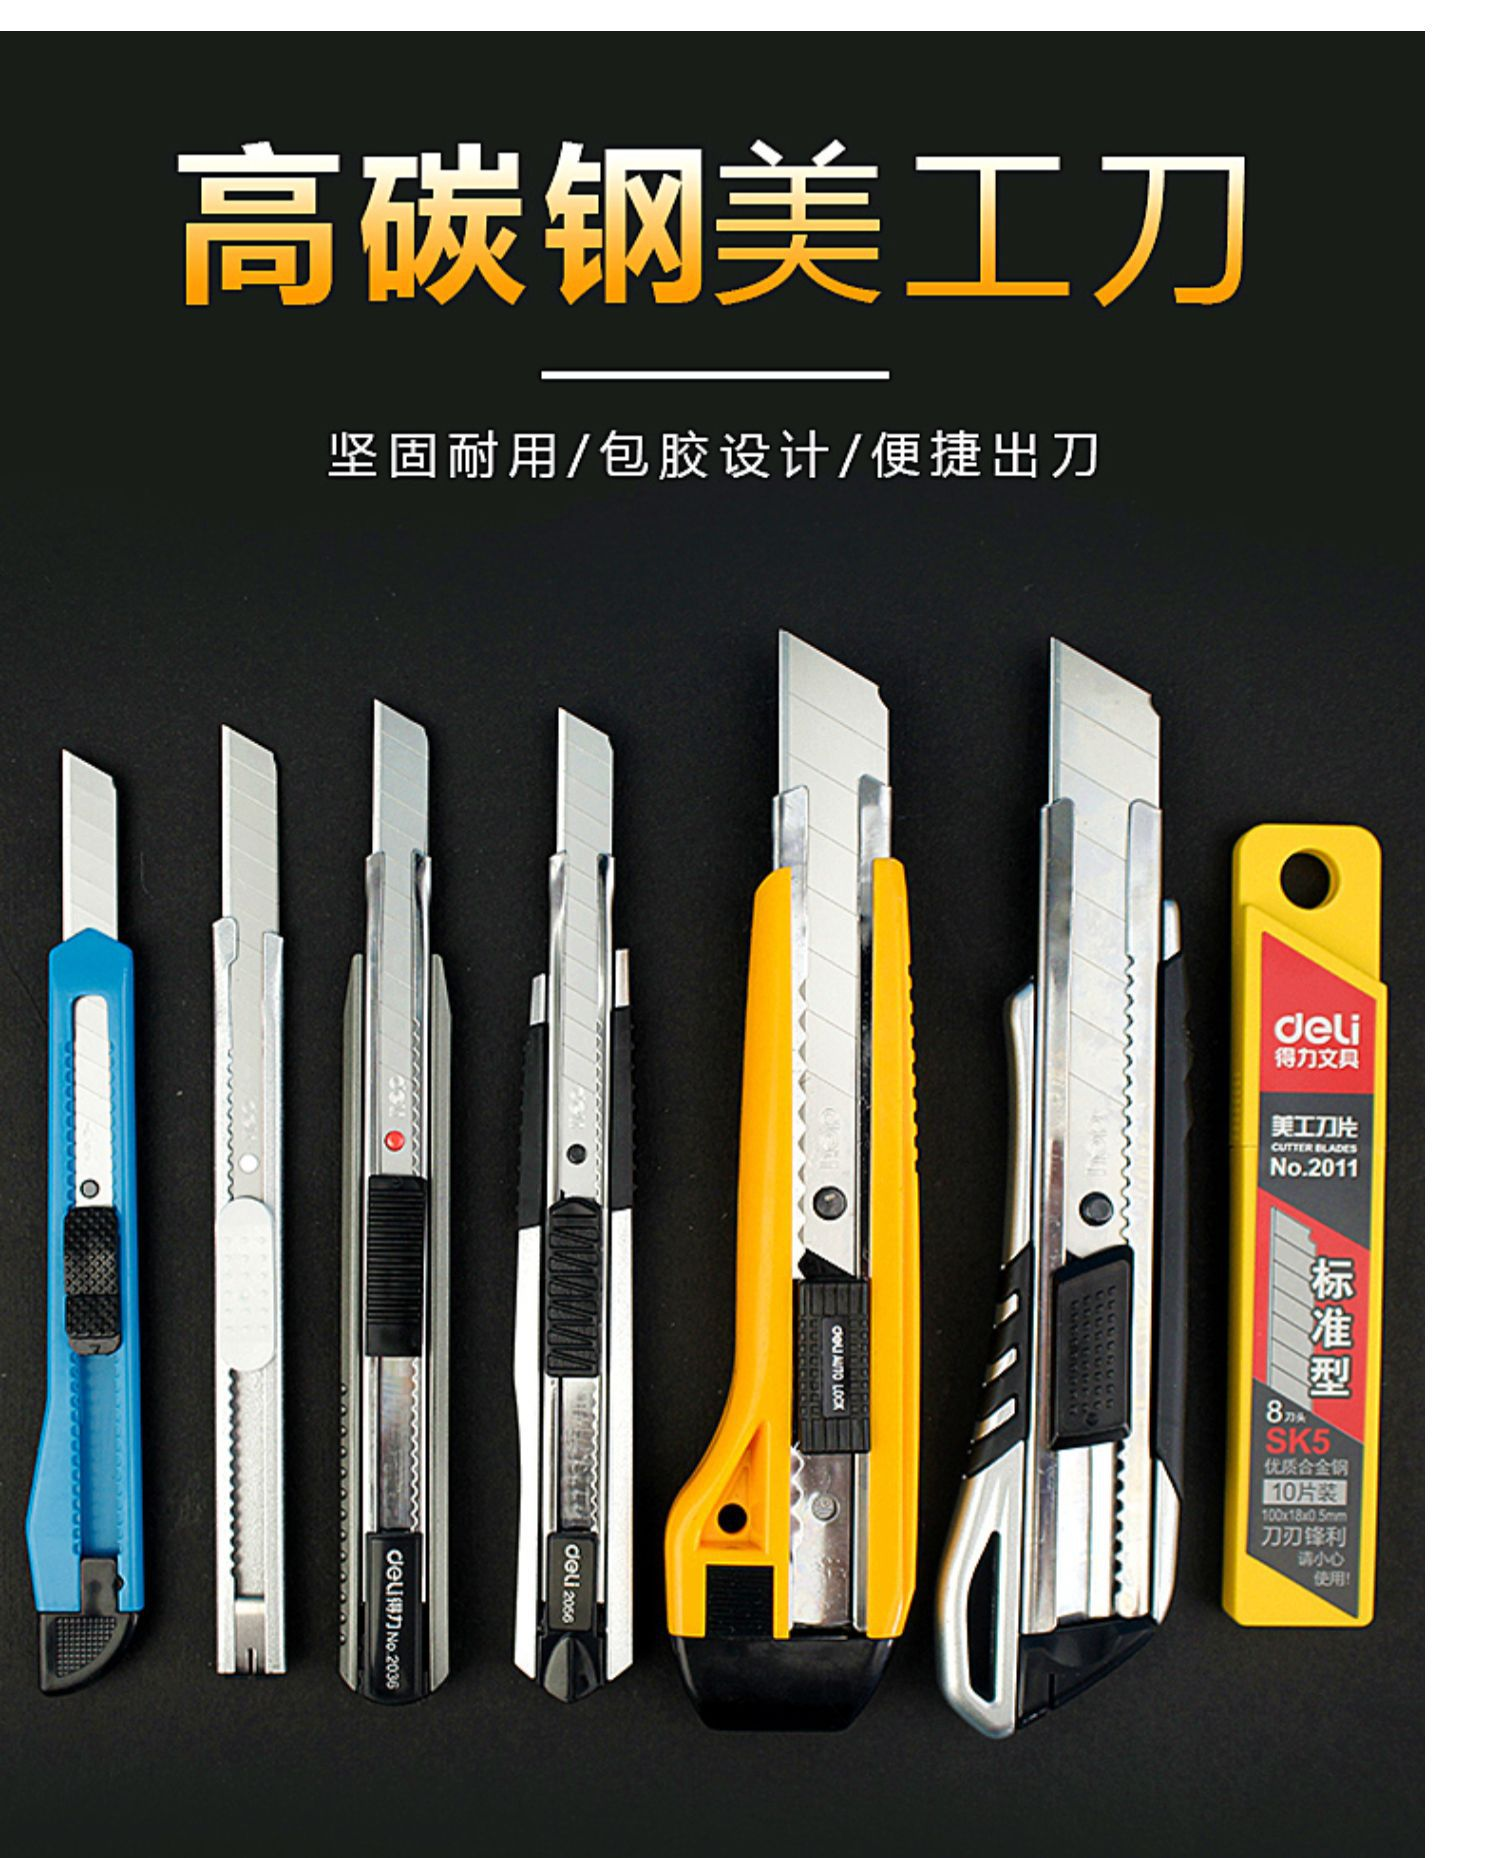cutter: (661, 629, 923, 1725), (934, 635, 1185, 1742), (1224, 819, 1391, 1638), (505, 706, 638, 1703), (21, 745, 153, 1710), (334, 695, 453, 1699), (211, 719, 291, 1679)
